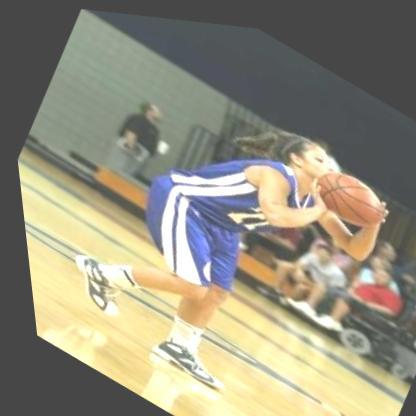basketball: (296, 146, 393, 235)
